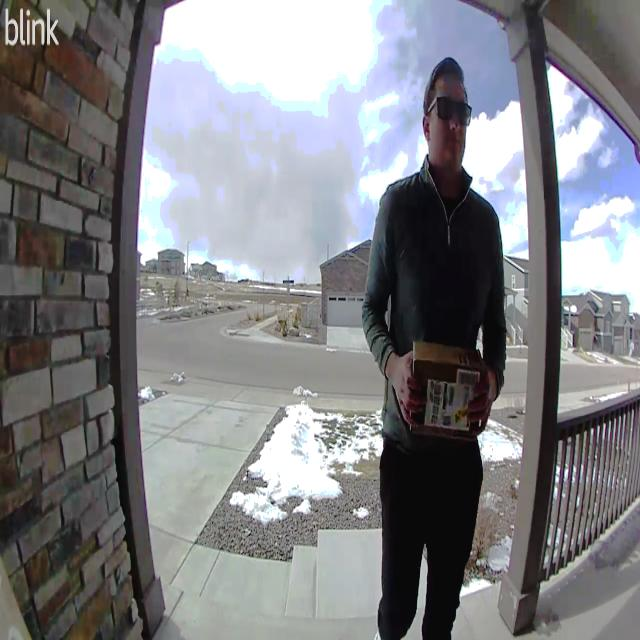Box: (406, 334, 482, 439)
